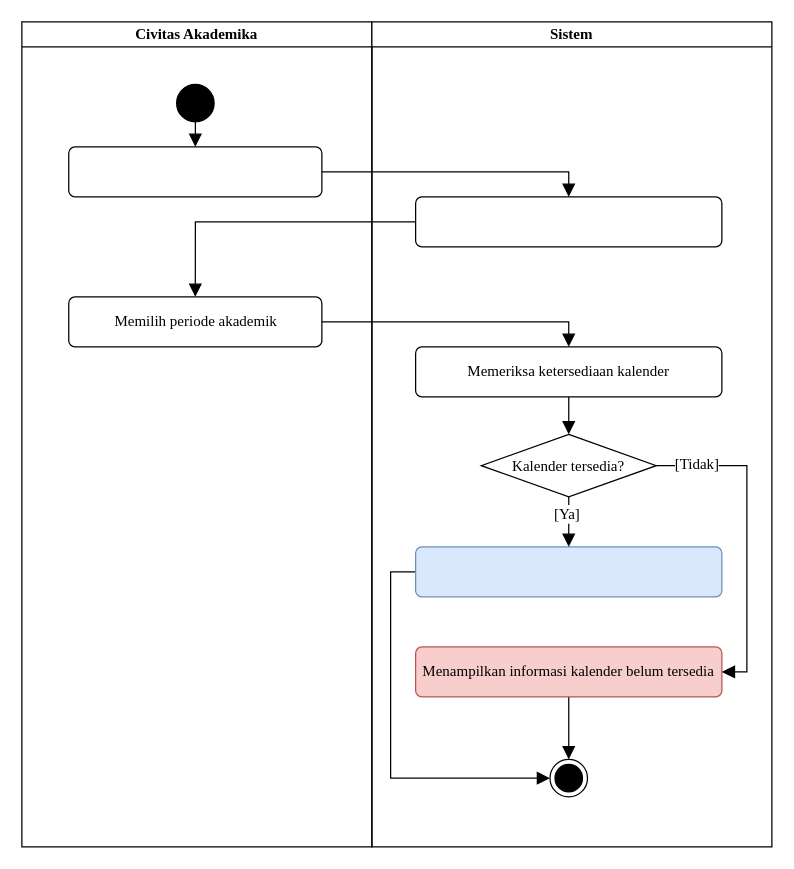
This 794x869 diagram has some shape labels left out. The shapes that lost their labels are listed below. From the top down, each one's centre as x and y in pixels, then its label:
At (x=195, y=171): "Membuka menu Kalender Akademik".
At (x=568, y=221): "Menampilkan halaman kalender".
At (x=568, y=571): "Menampilkan kalender akademik".
